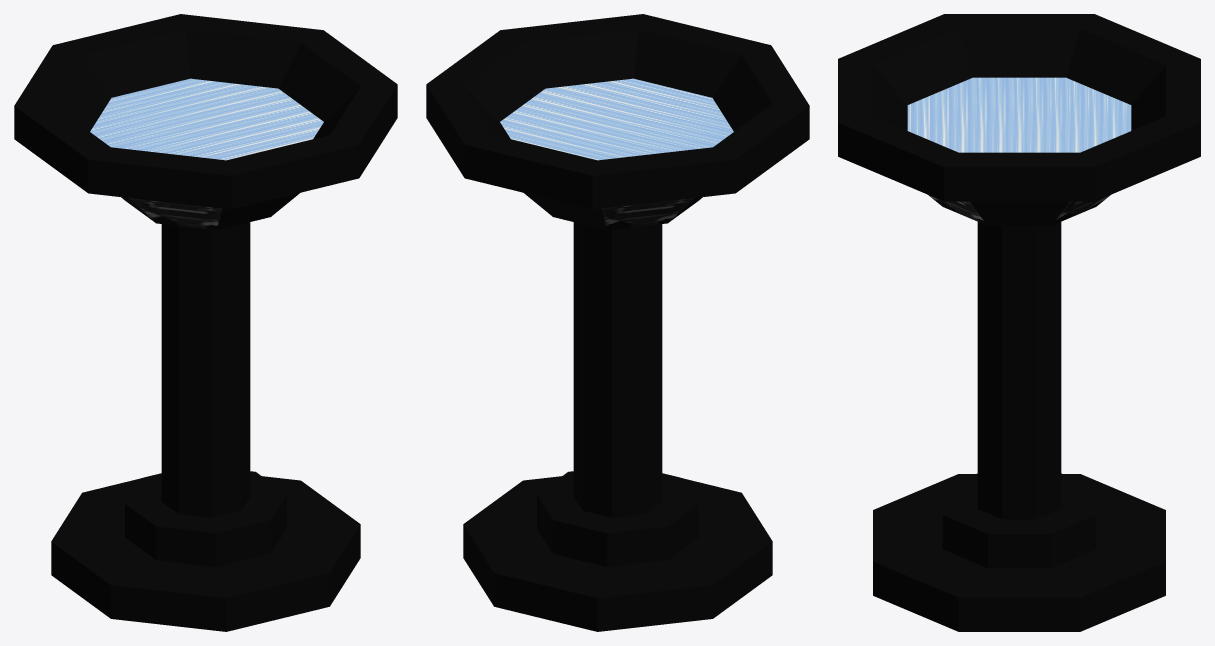
Rendered from manaweaving_altar.obj.
3 views of the same model, side by side, from view 1: azimuth 30°, elevation 25°; view 2: azimuth 150°, elevation 25°; view 3: azimuth 270°, elevation 25° (orthographic).
Visible parts, largest first — view 1: MAIN_BODY_Cylinder, WATER_Plane.001; view 2: MAIN_BODY_Cylinder, WATER_Plane.001; view 3: MAIN_BODY_Cylinder, WATER_Plane.001.
Part boxes in pixels (x1=…): MAIN_BODY_Cylinder: x1=14, y1=14, x2=397, y2=631; WATER_Plane.001: x1=90, y1=78, x2=323, y2=160; MAIN_BODY_Cylinder: x1=426, y1=14, x2=809, y2=631; WATER_Plane.001: x1=500, y1=78, x2=733, y2=160; MAIN_BODY_Cylinder: x1=838, y1=14, x2=1200, y2=631; WATER_Plane.001: x1=907, y1=77, x2=1131, y2=152.
Bounding box in the file's own units: 0.6005 × 0.875 × 0.6005.
